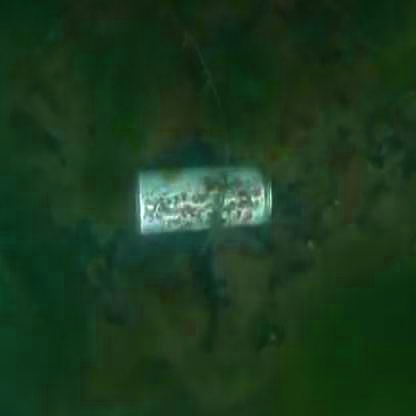can: (119, 145, 279, 240)
